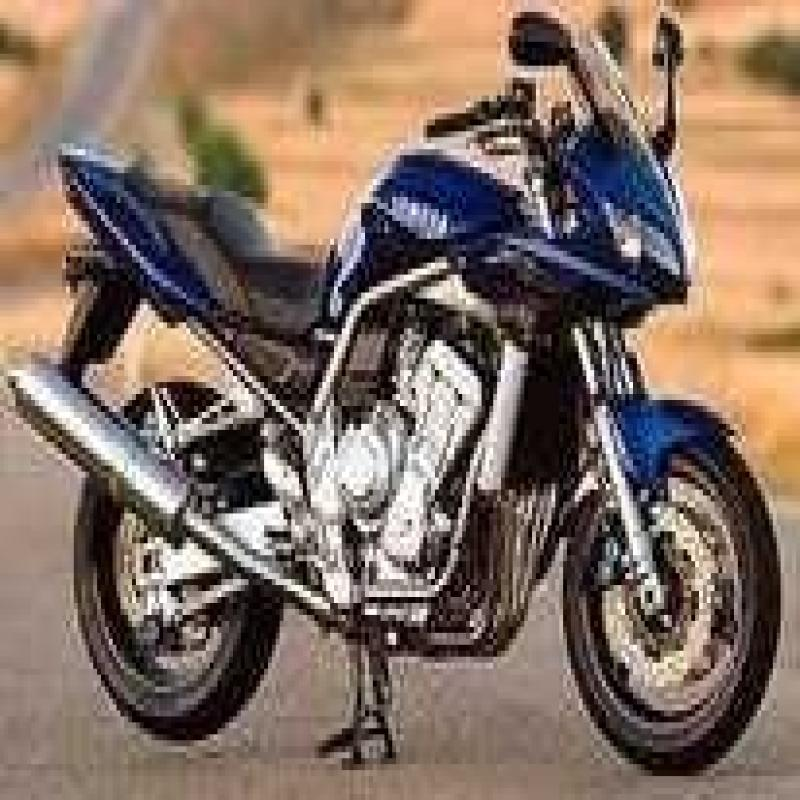bike: (12, 8, 780, 798)
